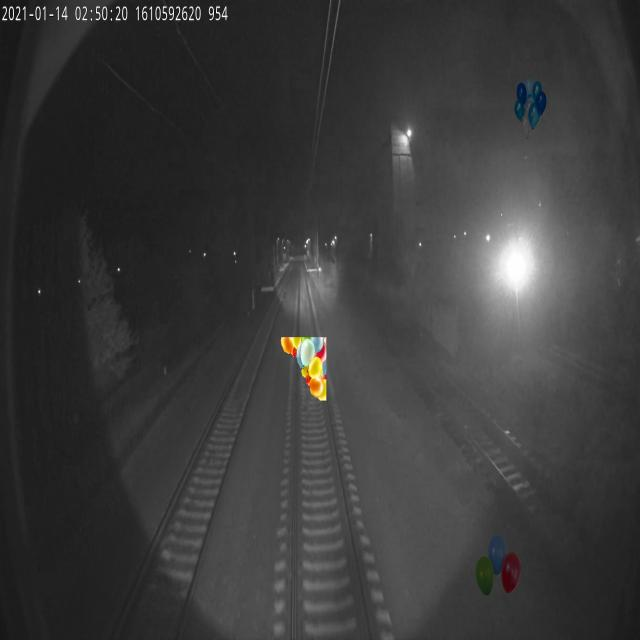balloon: (476, 534, 522, 598), (281, 336, 326, 401), (514, 76, 547, 140)
